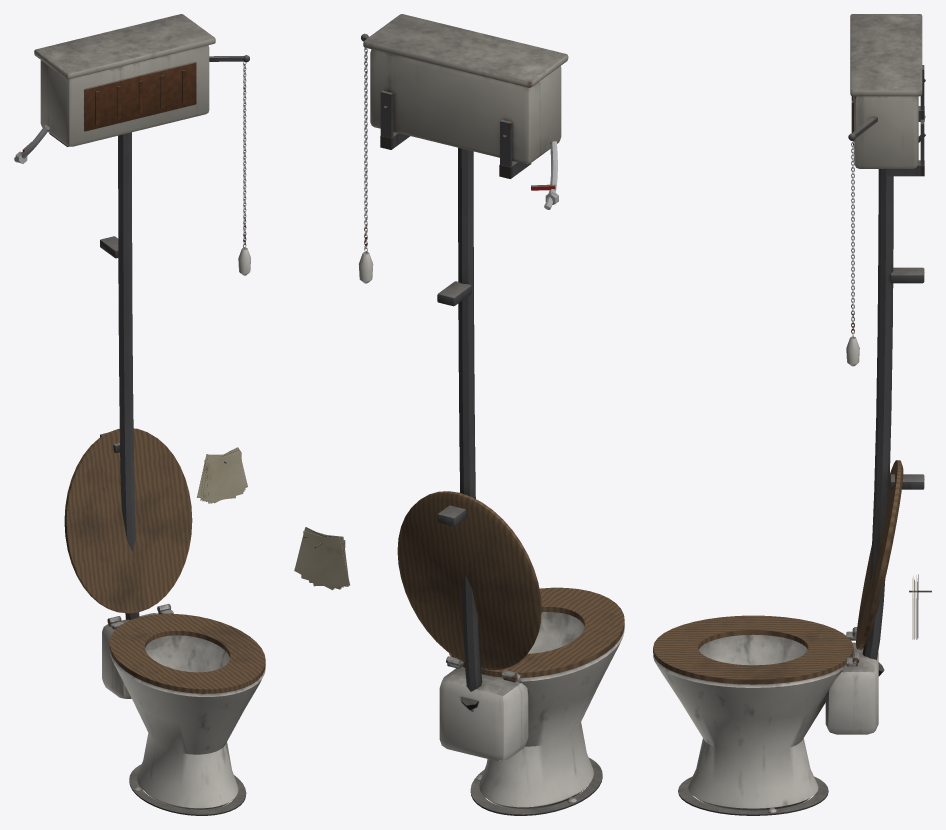
File: SM_Toilet_HighCistern.fbx
3 renders of one model, left to right at view 1: azimuth 30°, elevation 25°; view 2: azimuth 150°, elevation 25°; view 3: azimuth 270°, elevation 25°, orthographic. The views are drawn at different scales.
Parts seen in each view (by area): view 1: SM_Toilet_HighCistern; view 2: SM_Toilet_HighCistern; view 3: SM_Toilet_HighCistern.
Part boxes in pixels (bbox=[...]): SM_Toilet_HighCistern: bbox=[14, 14, 265, 815]; SM_Toilet_HighCistern: bbox=[294, 14, 624, 815]; SM_Toilet_HighCistern: bbox=[653, 14, 931, 815].
Bounding box in the file's own units: 0.7464 × 2.15 × 0.734.
1 material, 1 textured.
